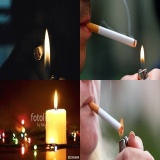fire: (43, 29, 51, 66), (138, 44, 147, 68), (116, 119, 124, 139), (52, 88, 59, 109)
